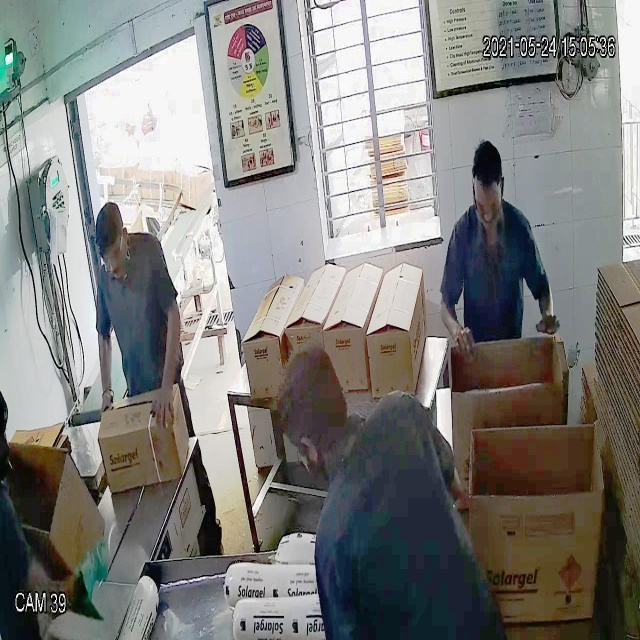Gafas: (94, 239, 130, 272)
